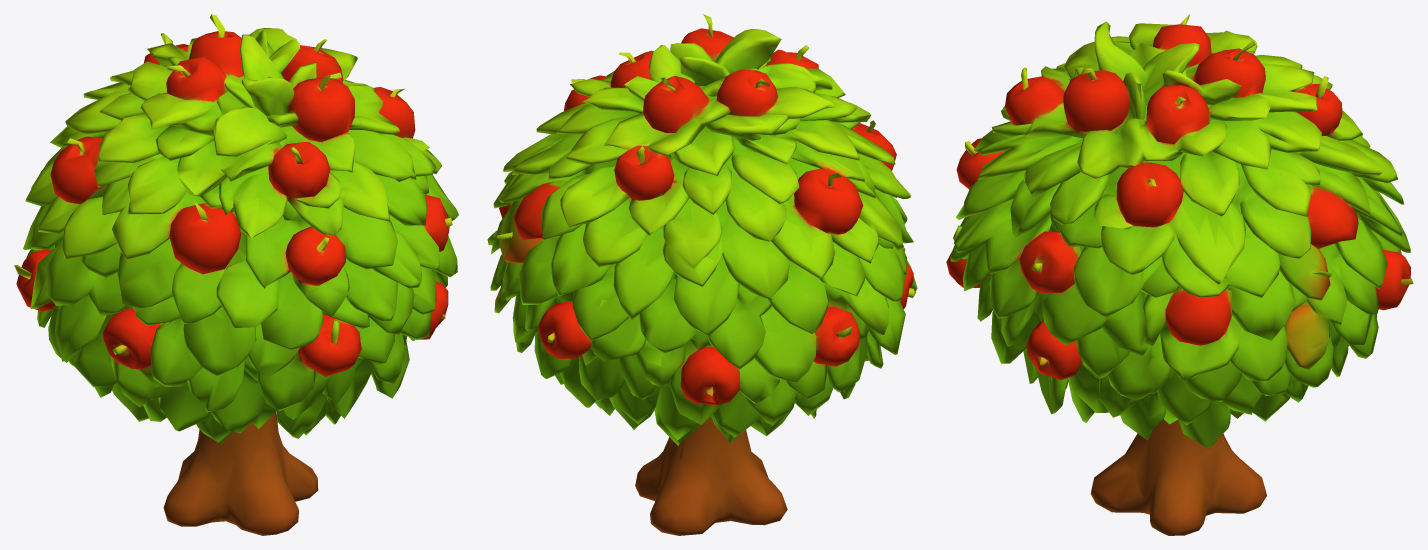
Rendered from tree_apple.glb.
The picture shows the model from 3 angles, left to right: view 1: azimuth 30°, elevation 25°; view 2: azimuth 150°, elevation 25°; view 3: azimuth 270°, elevation 25°; orthographic projection. The views are drawn at different scales.
Visible parts, largest first — view 1: tripo_node_cadcc7b8-7c39-4cf0-8a8d-30622b45584d; view 2: tripo_node_cadcc7b8-7c39-4cf0-8a8d-30622b45584d; view 3: tripo_node_cadcc7b8-7c39-4cf0-8a8d-30622b45584d.
Boxes of the visible parts, x1,y1,x2,y2 form: tripo_node_cadcc7b8-7c39-4cf0-8a8d-30622b45584d: (14,14,458,535); tripo_node_cadcc7b8-7c39-4cf0-8a8d-30622b45584d: (487,14,917,535); tripo_node_cadcc7b8-7c39-4cf0-8a8d-30622b45584d: (946,14,1413,535).
Bounding box in the file's own units: 3.77 × 4.2 × 3.79.
1 material, 1 textured.
